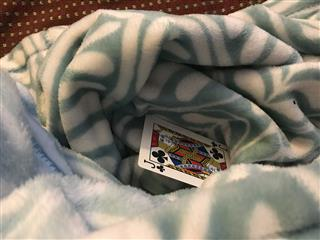JackOfClubs: (137, 114, 230, 187)
